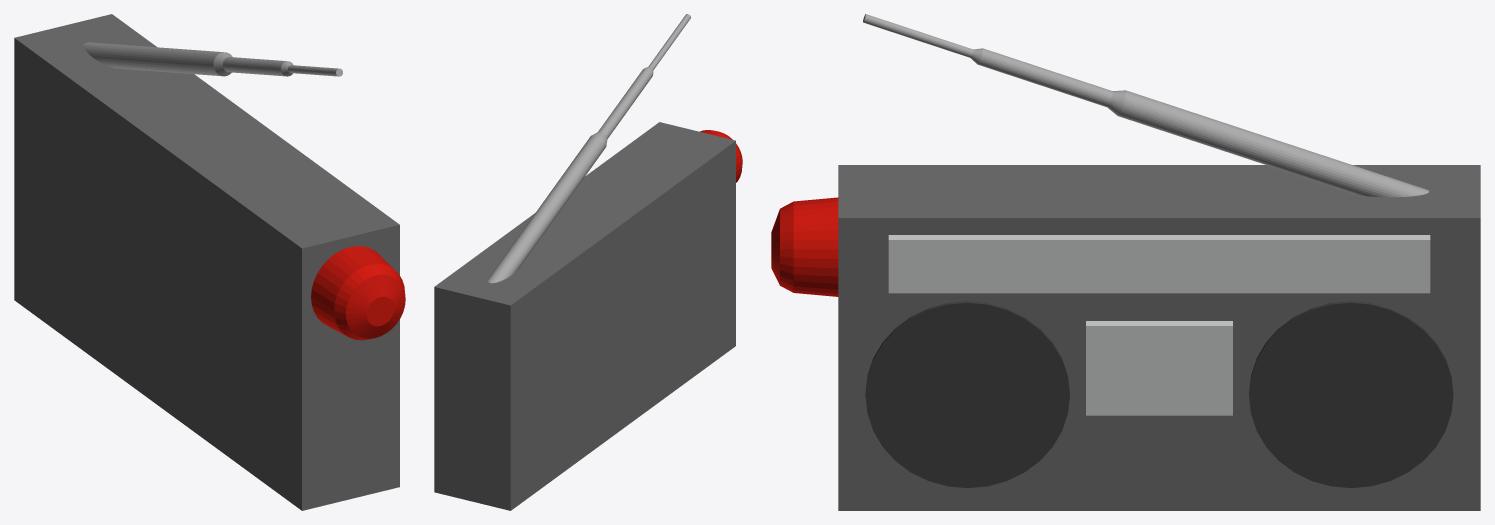
The model's file is radio.fbx.
3 renders of one model, left to right at view 1: azimuth 30°, elevation 25°; view 2: azimuth 150°, elevation 25°; view 3: azimuth 270°, elevation 25°, orthographic. The views are drawn at different scales.
Parts seen in each view (by area): view 1: Box, Button, Antenna; view 2: Box, Antenna; view 3: Box, Dial, Woofer1, Woofer2, Tape, Antenna, Button.
Part boxes in pixels (<box>): Box: <box>14,14,399,510</box>; Button: <box>311,246,405,340</box>; Antenna: <box>83,42,342,76</box>; Box: <box>434,122,735,510</box>; Antenna: <box>488,14,690,283</box>; Box: <box>838,165,1480,510</box>; Dial: <box>888,235,1430,293</box>; Woofer1: <box>865,301,1069,488</box>; Woofer2: <box>1249,301,1453,488</box>; Tape: <box>1086,321,1232,415</box>; Antenna: <box>863,14,1429,197</box>; Button: <box>771,197,838,296</box>.
Bounding box in the file's own units: 108 × 406 × 555.
